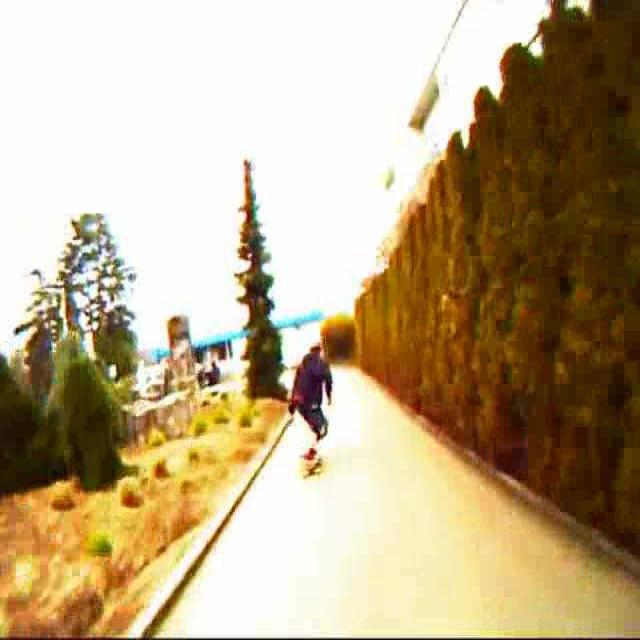other: (221, 280, 378, 489), (27, 468, 195, 552)
